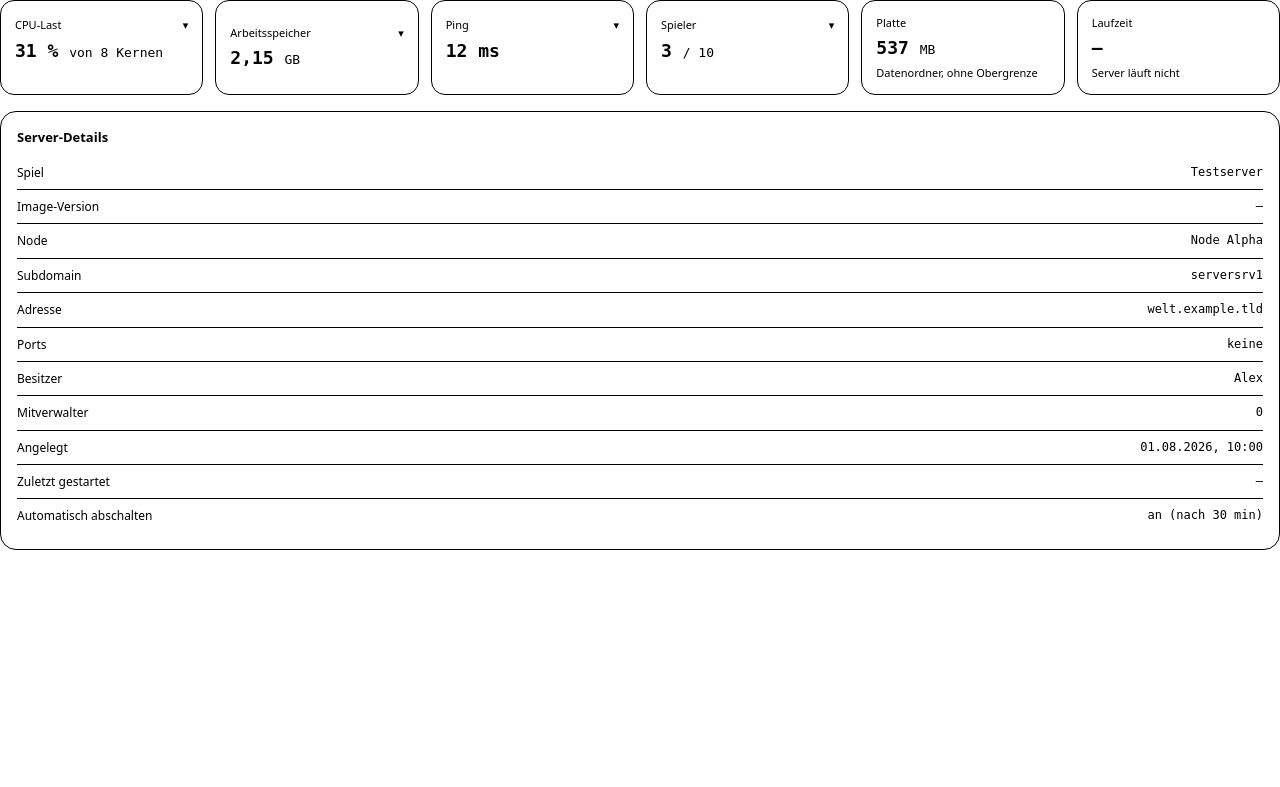
Scenario: OverviewTab – Kacheln im hafenmeister-Stil › zeigt unter der Ping-Kachel die Netzwerkaktivitaet in vier Kurven
The image size is (1280, 787).
Click the button "Ping ▾ 12 ms": (532, 48) [431, 0, 634, 95]
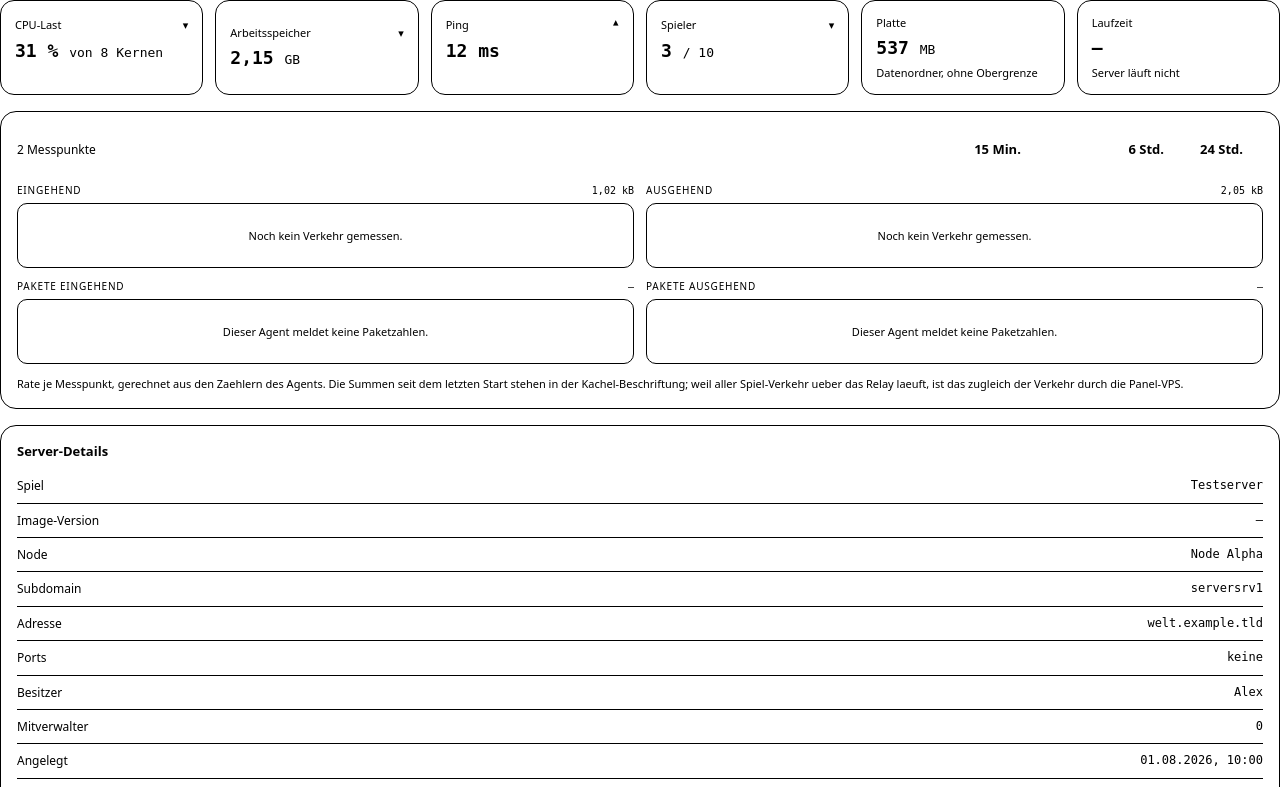
Check: the text "Eingehend" is shown, box [17, 184, 82, 197]
Check: the text "Ausgehend" is shown, box [646, 184, 713, 197]
Check: the text "Pakete eingehend" is shown, box [17, 280, 124, 293]
